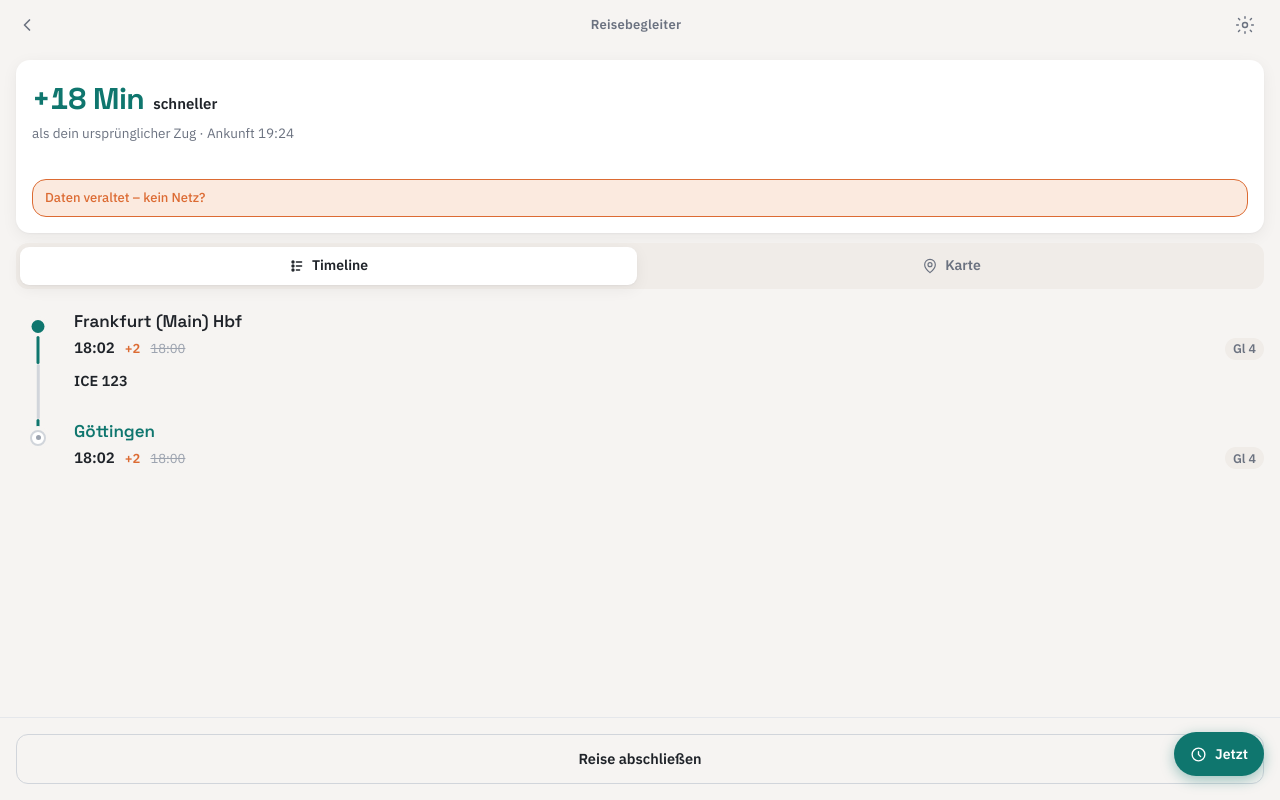
Test case: CompanionScreen › switches to Karte tab on click
Click the button "Karte": point(952, 266) [643,247,1260,285]
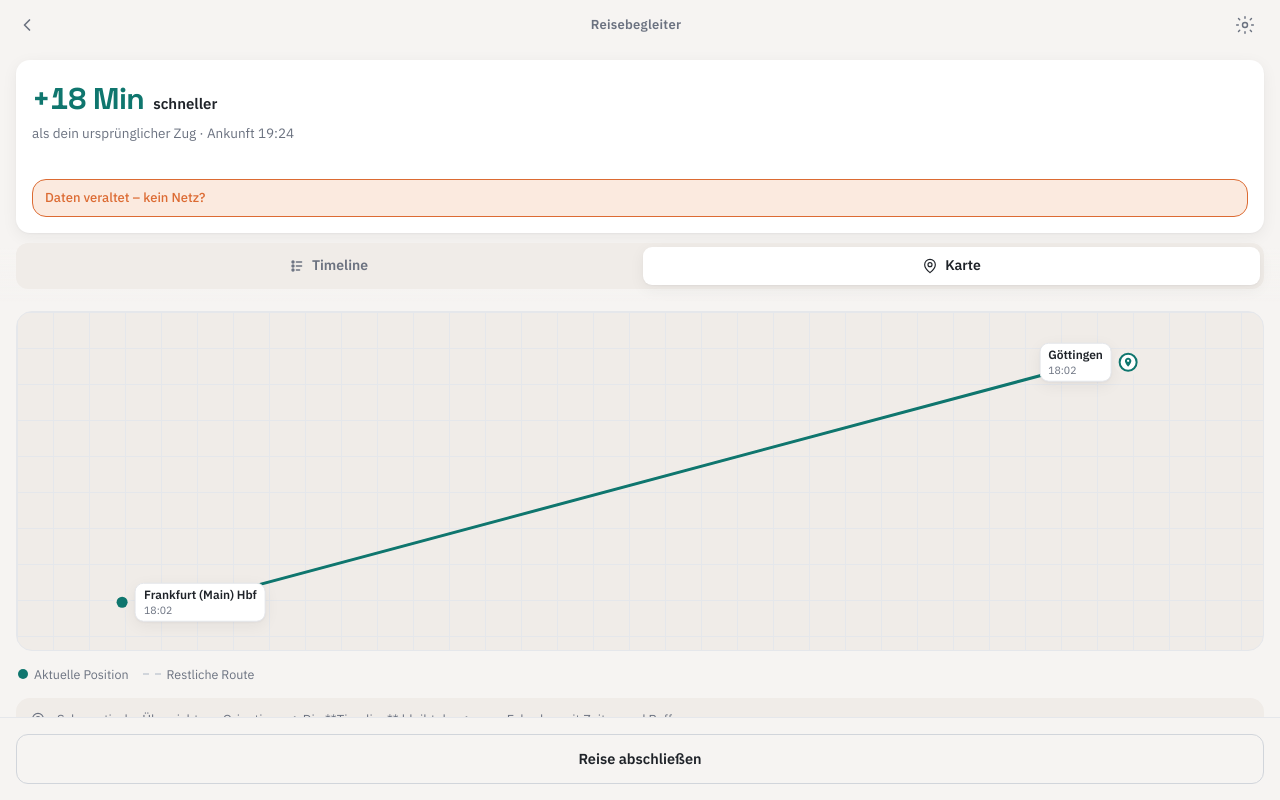
Expected: the text "Schematische Übersicht" is shown, [57,710,695,728]
